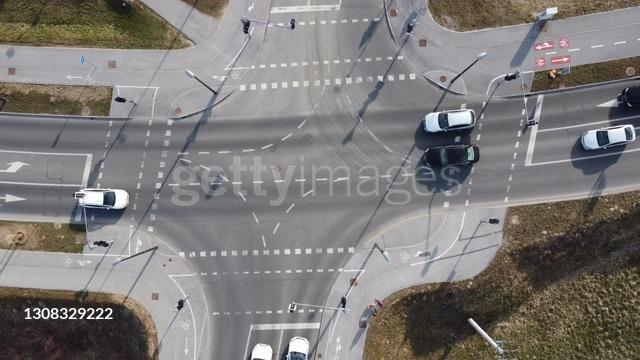car: (574, 124, 638, 154), (73, 185, 134, 216), (421, 107, 484, 135), (421, 144, 483, 168), (616, 77, 640, 110), (287, 334, 313, 360), (250, 342, 274, 360)
